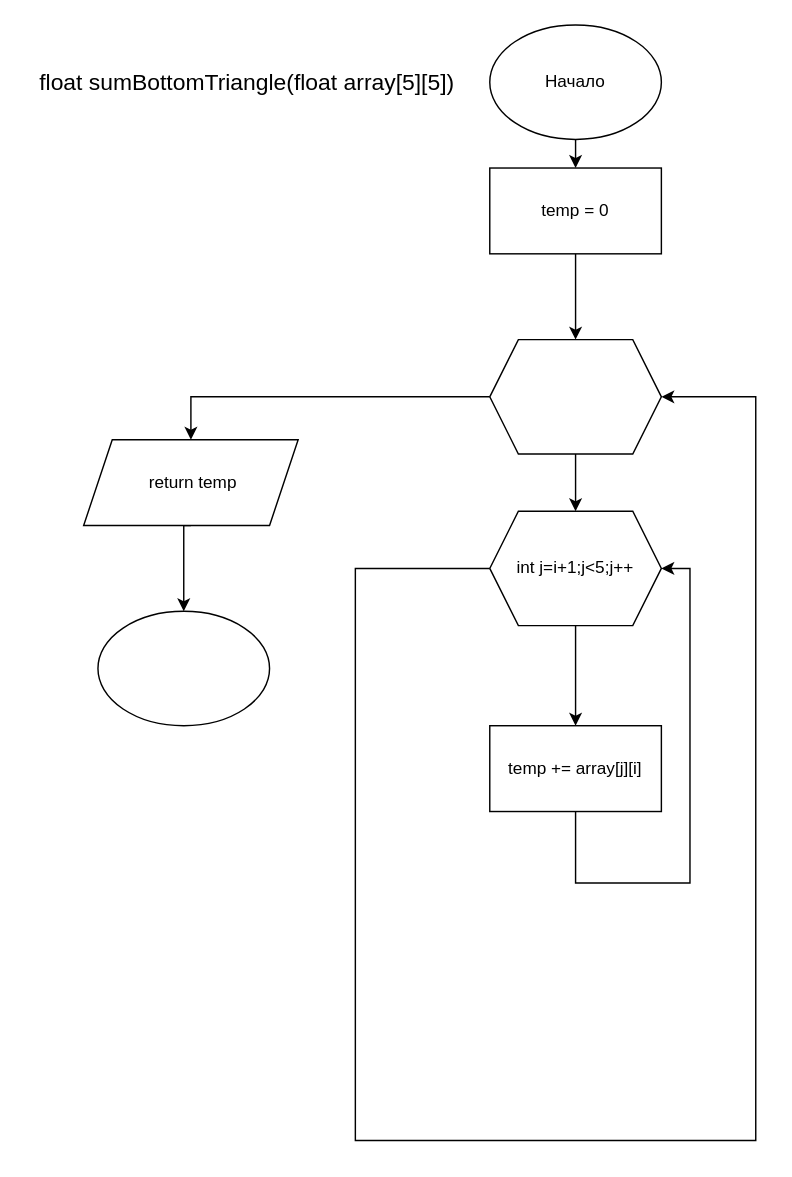
Image size: 792x1177. Some labels were removed from this diagram. Here are the shapes that lost their labels. From the top down, the centre of each, then its label:
(x=574, y=396): int i=0;i<5;i++
(x=183, y=668): Конец
